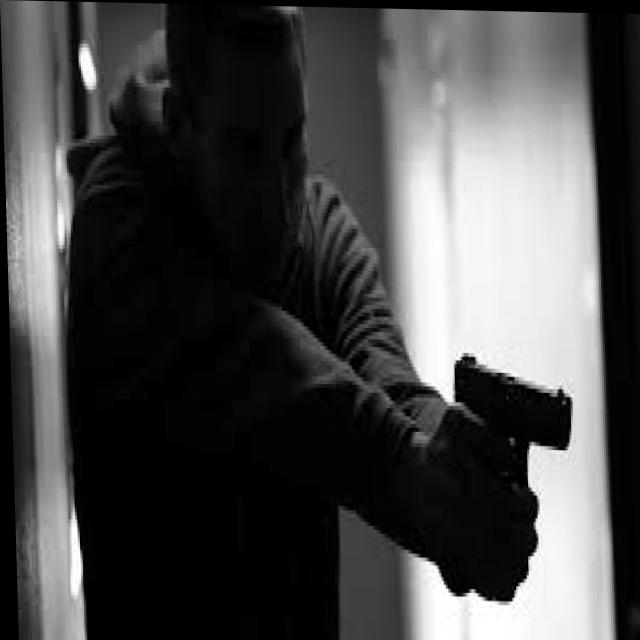handgun: (452, 348, 574, 488)
